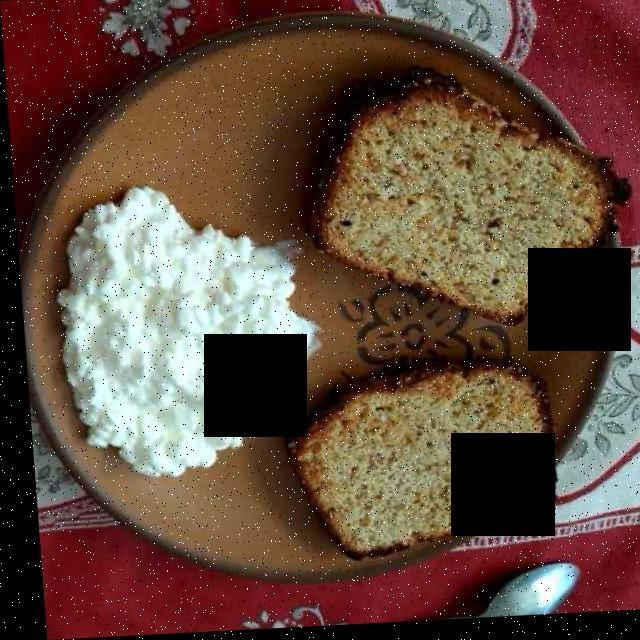bread: (296, 92, 607, 580)
cheese: (58, 188, 304, 474)
